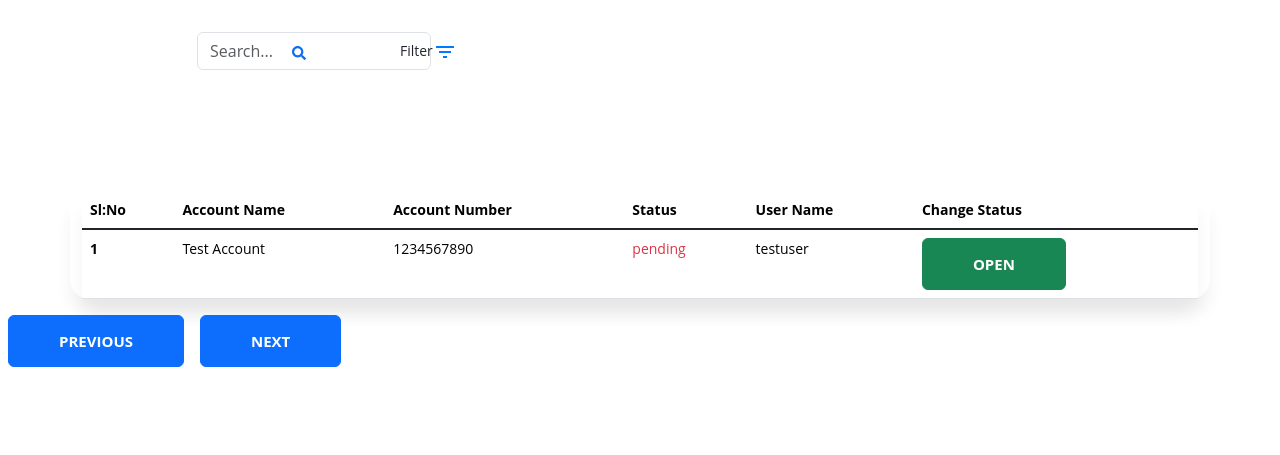
it: StaffDashboard Component › close Account
Click the button "open" at (994, 264), box [922, 238, 1066, 290]
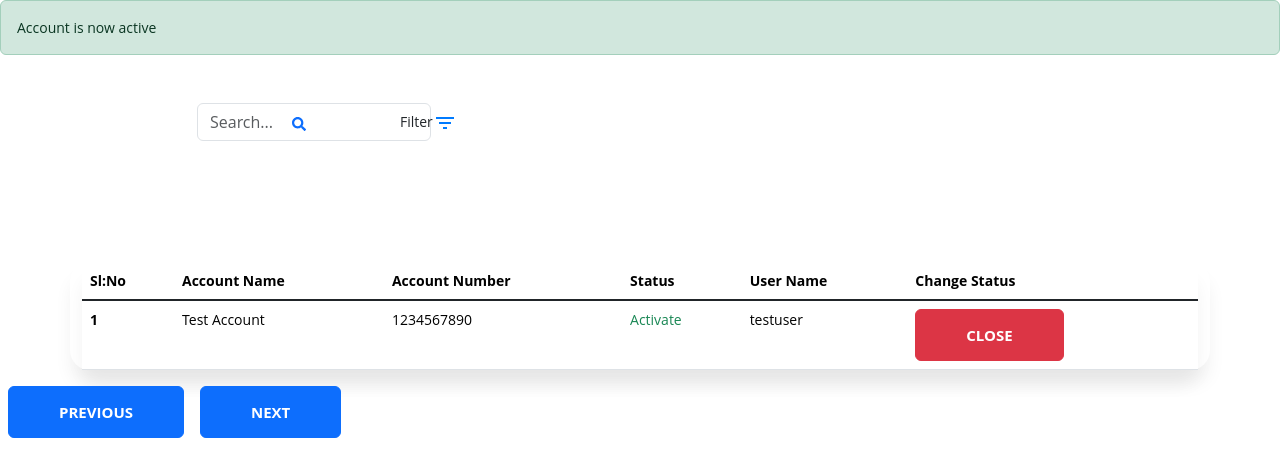
Check: the text "Account is now active" is shown, box [0, 0, 1279, 55]
